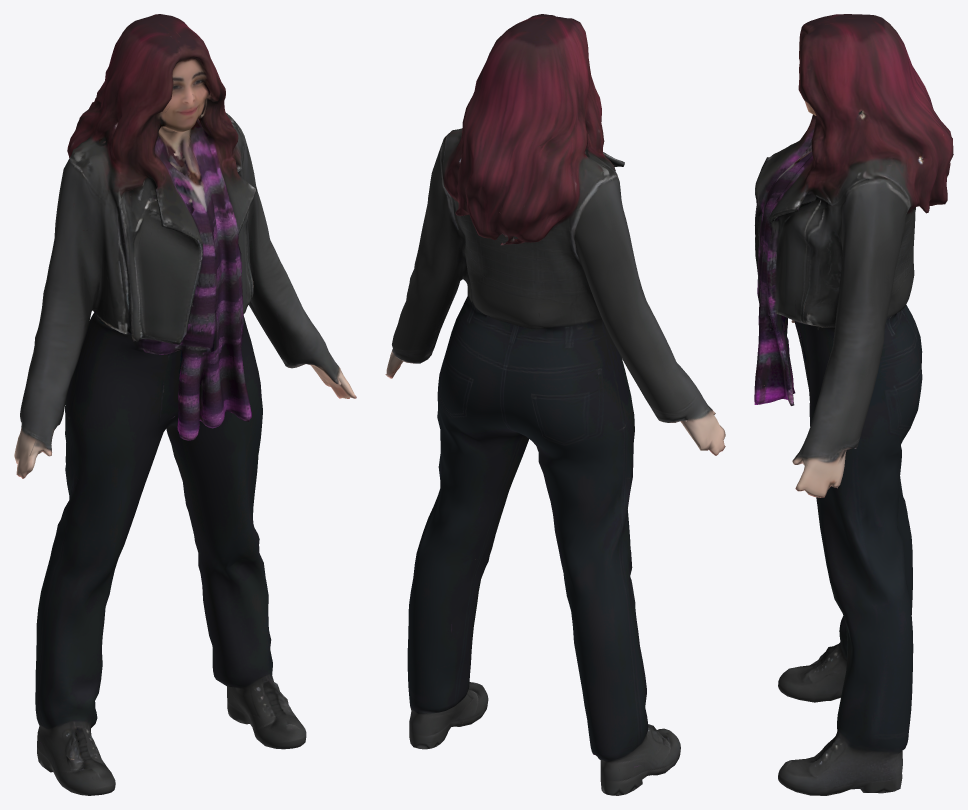
The model's file is Meshy_AI_Stylish_Confidence_0108093935_texture.fbx.
3 renders of one model, left to right at view 1: azimuth 30°, elevation 25°; view 2: azimuth 150°, elevation 25°; view 3: azimuth 270°, elevation 25°, orthographic.
Visible parts, largest first — view 1: Mesh_0; view 2: Mesh_0; view 3: Mesh_0.
Part boxes in pixels (x1,y1,x2,y2): Mesh_0: (14, 14, 356, 795); Mesh_0: (385, 14, 725, 795); Mesh_0: (754, 14, 953, 795).
Size of the model in its own units: 90.25 by 191 by 47.81.
Materials: 1 (1 with a texture image).
